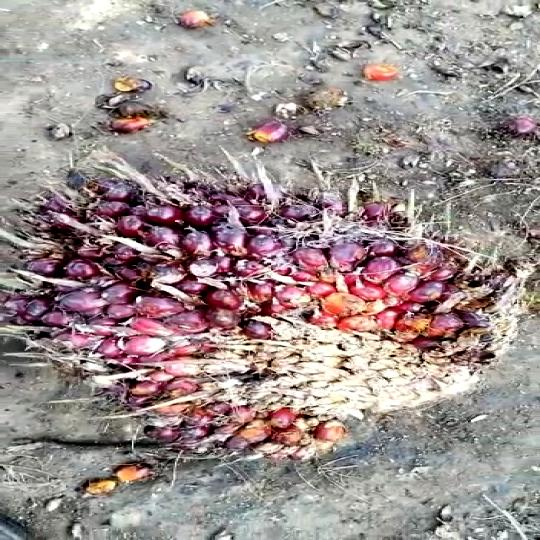masak: (0, 156, 540, 421)
